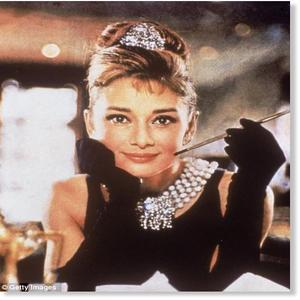cigarette: (236, 107, 291, 133)
